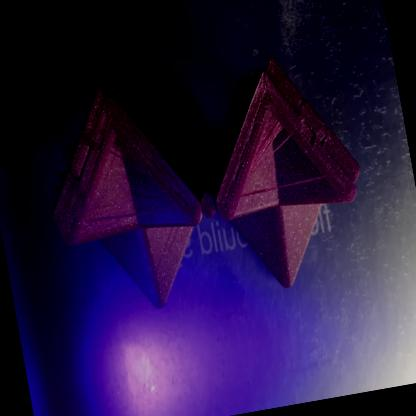fail: (247, 112, 296, 184), (111, 134, 125, 166)
